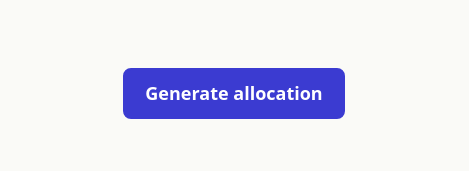
Test case: App › explains an unreachable backend when fetch rejects
Click the button "Generate allocation": [234, 93] box [123, 68, 345, 118]
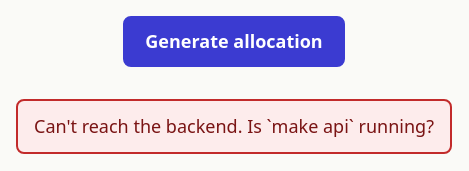
Now the text "Can't reach the backend. Is `make api` running?" is shown, box [34, 113, 434, 140]
